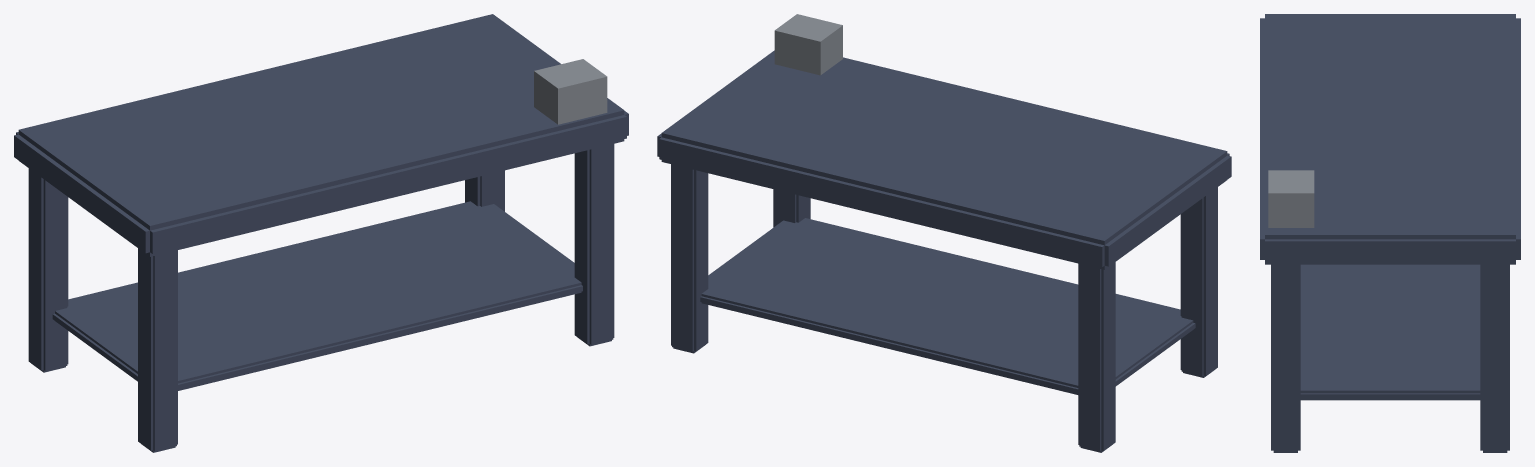
Rendered from granite_workbench_v0.glb.
3 views of the same model, side by side, from view 1: azimuth 30°, elevation 25°; view 2: azimuth 150°, elevation 25°; view 3: azimuth 270°, elevation 25° (orthographic). The views are drawn at different scales.
Visible parts, largest first — view 1: granite_workbench_v0; view 2: granite_workbench_v0; view 3: granite_workbench_v0.
Boxes of the visible parts, left/top/right/bottom form: granite_workbench_v0: left=14, top=14, right=628, bottom=452; granite_workbench_v0: left=657, top=14, right=1231, bottom=452; granite_workbench_v0: left=1260, top=14, right=1520, bottom=452.
Size of the model in its own units: 1.96 by 1.04 by 0.96.
